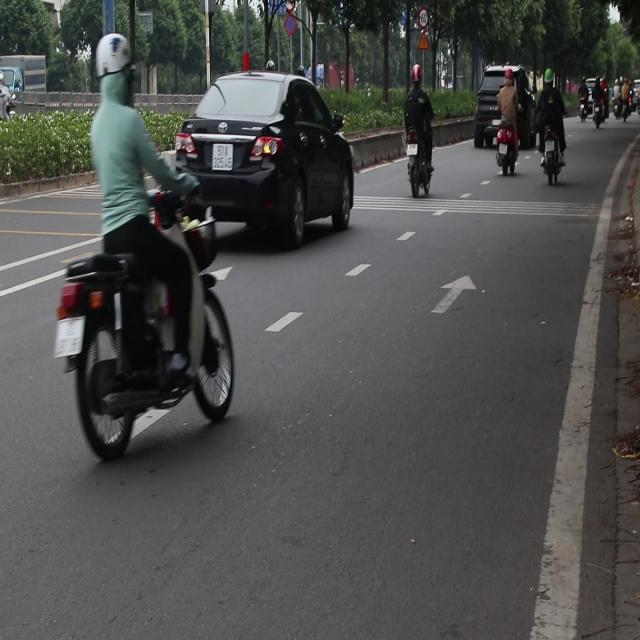car: (175, 68, 359, 250), (473, 66, 528, 154)
motorbike: (55, 195, 239, 460), (398, 125, 442, 210), (493, 110, 521, 177), (542, 126, 566, 185), (584, 82, 608, 128), (580, 86, 596, 124), (628, 80, 638, 116)
truck: (0, 55, 47, 114)
